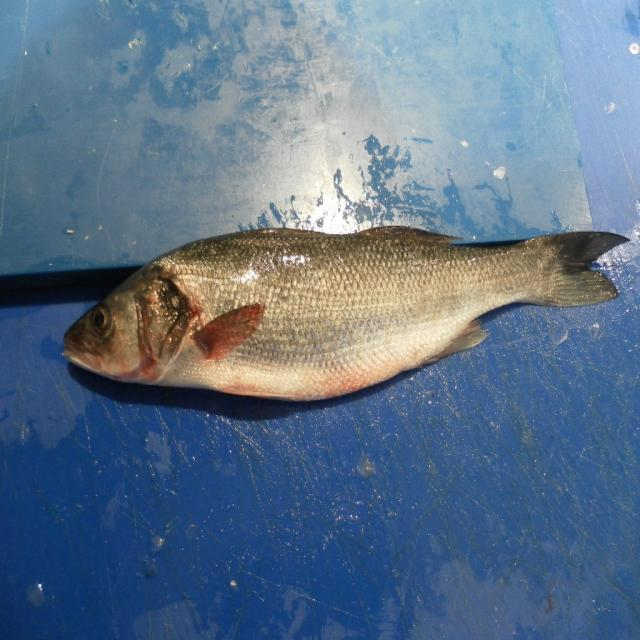Sea-Bass-levrek-: (62, 226, 631, 405)
